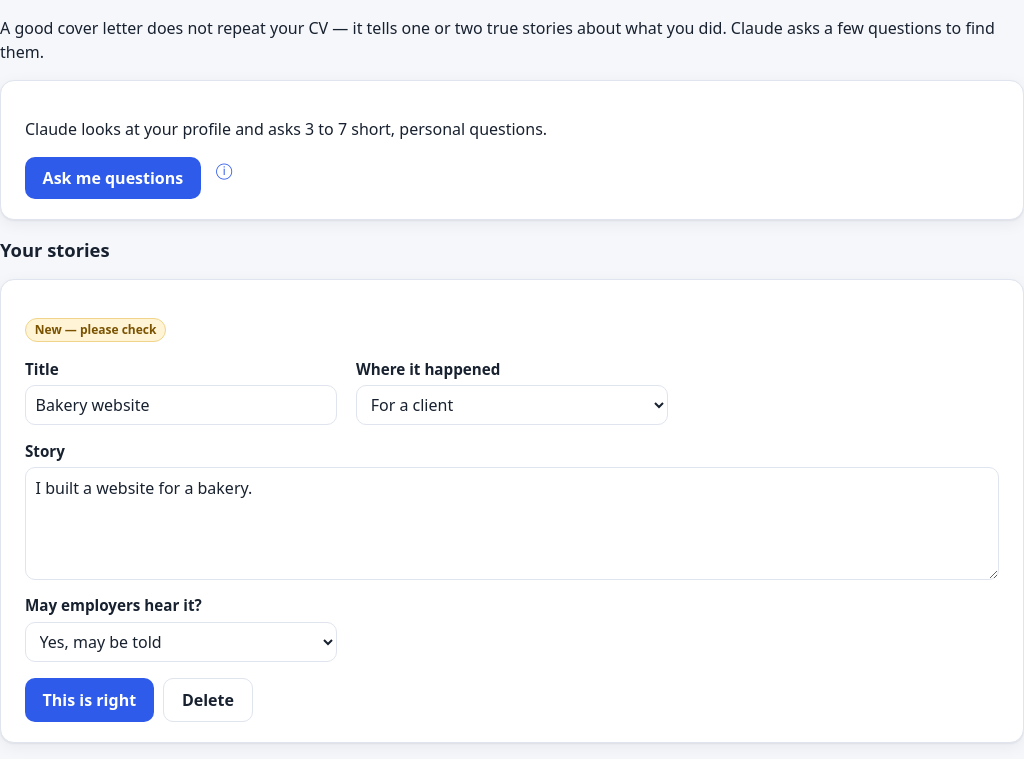
Test: StoriesStep › confirms a story
Click the button "This is right".
click(89, 700)  # box [25,678,154,722]
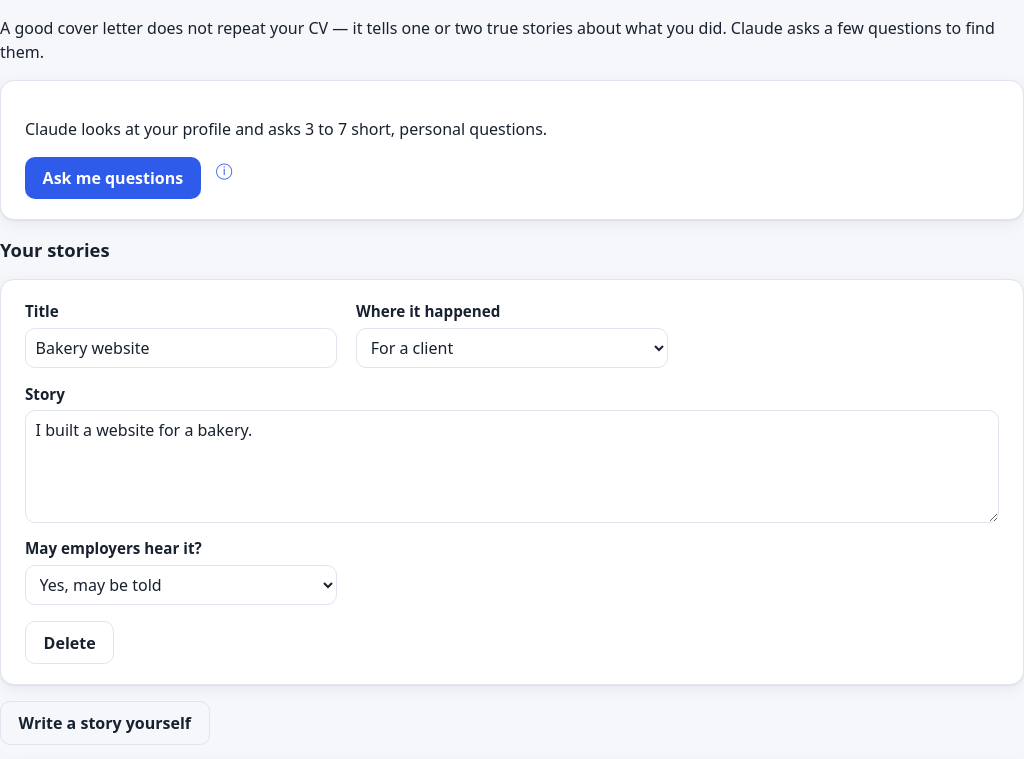
Expected: the button "Delete" is shown, [25,621,114,664]
Now the text "New — please check" is gone
